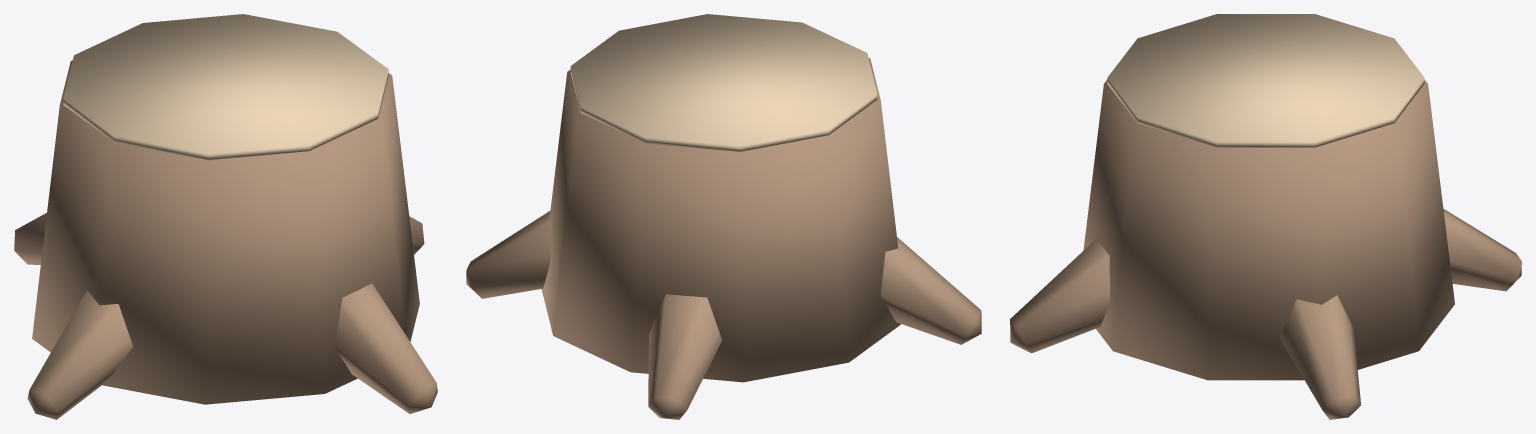
File: stump.glb
3 views of the same model, side by side, from view 1: azimuth 30°, elevation 25°; view 2: azimuth 150°, elevation 25°; view 3: azimuth 270°, elevation 25° (orthographic). The views are drawn at different scales.
Parts seen in each view (by area): view 1: stump; view 2: stump; view 3: stump.
Boxes of the visible parts, x1,y1,x2,y2 form: stump: (14,14,437,419); stump: (466,14,981,419); stump: (1010,14,1521,419).
Size of the model in its own units: 0.7579 by 0.393 by 0.7579.
